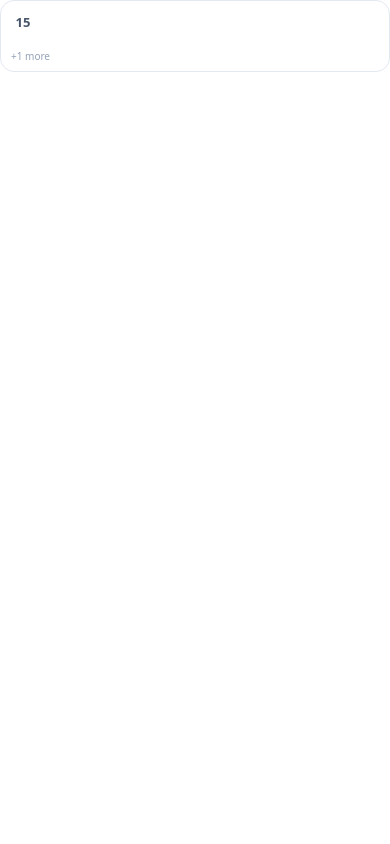
Test case: MonthDays overflow ("+N more") › opens the day events modal, and reopens it after closing
This screenshot has width=390, height=844.
Click the button "+1 more" at [30, 56], box [9,48,52,64]
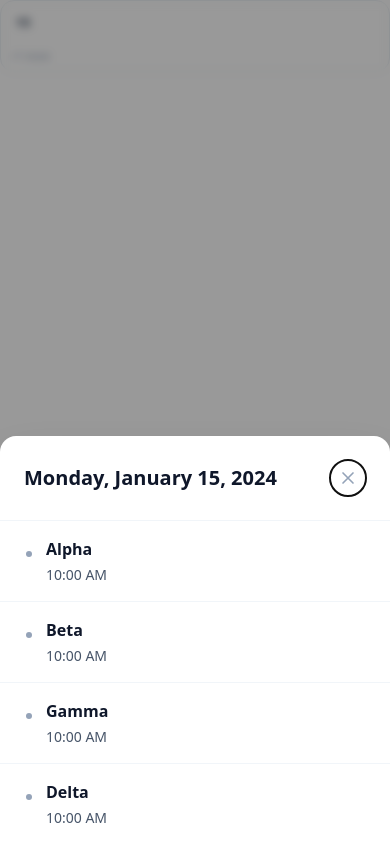
Now the heading "Monday, January 15, 2024" is shown, box [24,464,277,492]
Click the button named "Close" at [348, 478], box [330,460,366,496]
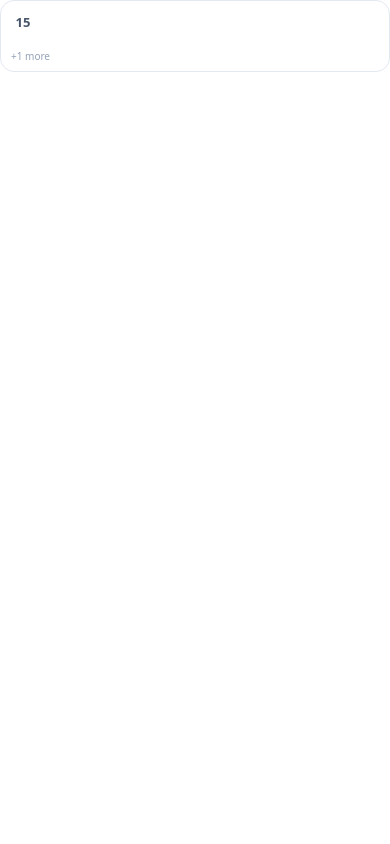
Now the heading "Monday, January 15, 2024" is gone
Click the button "+1 more" at [30, 56], box [9,48,52,64]
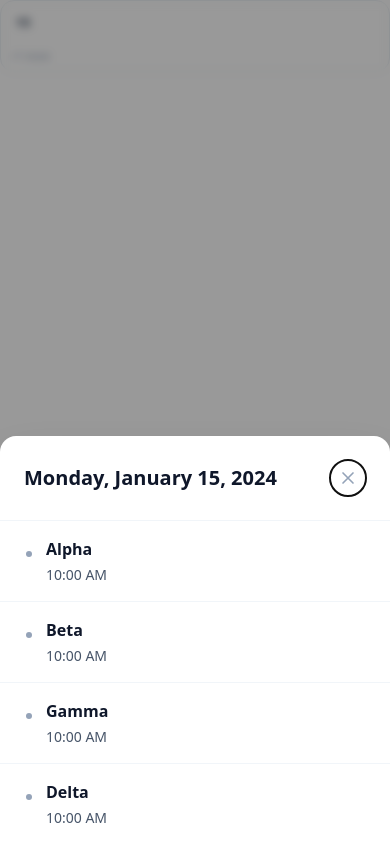
Now the heading "Monday, January 15, 2024" is shown, box [24,464,277,492]
